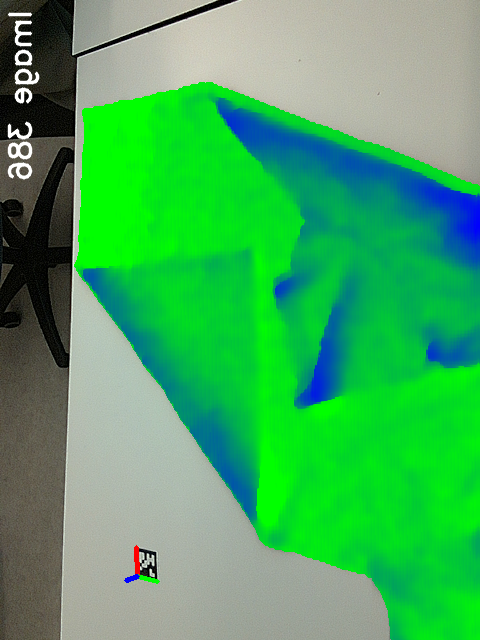V: (280, 362, 338, 421), (216, 232, 269, 278)
